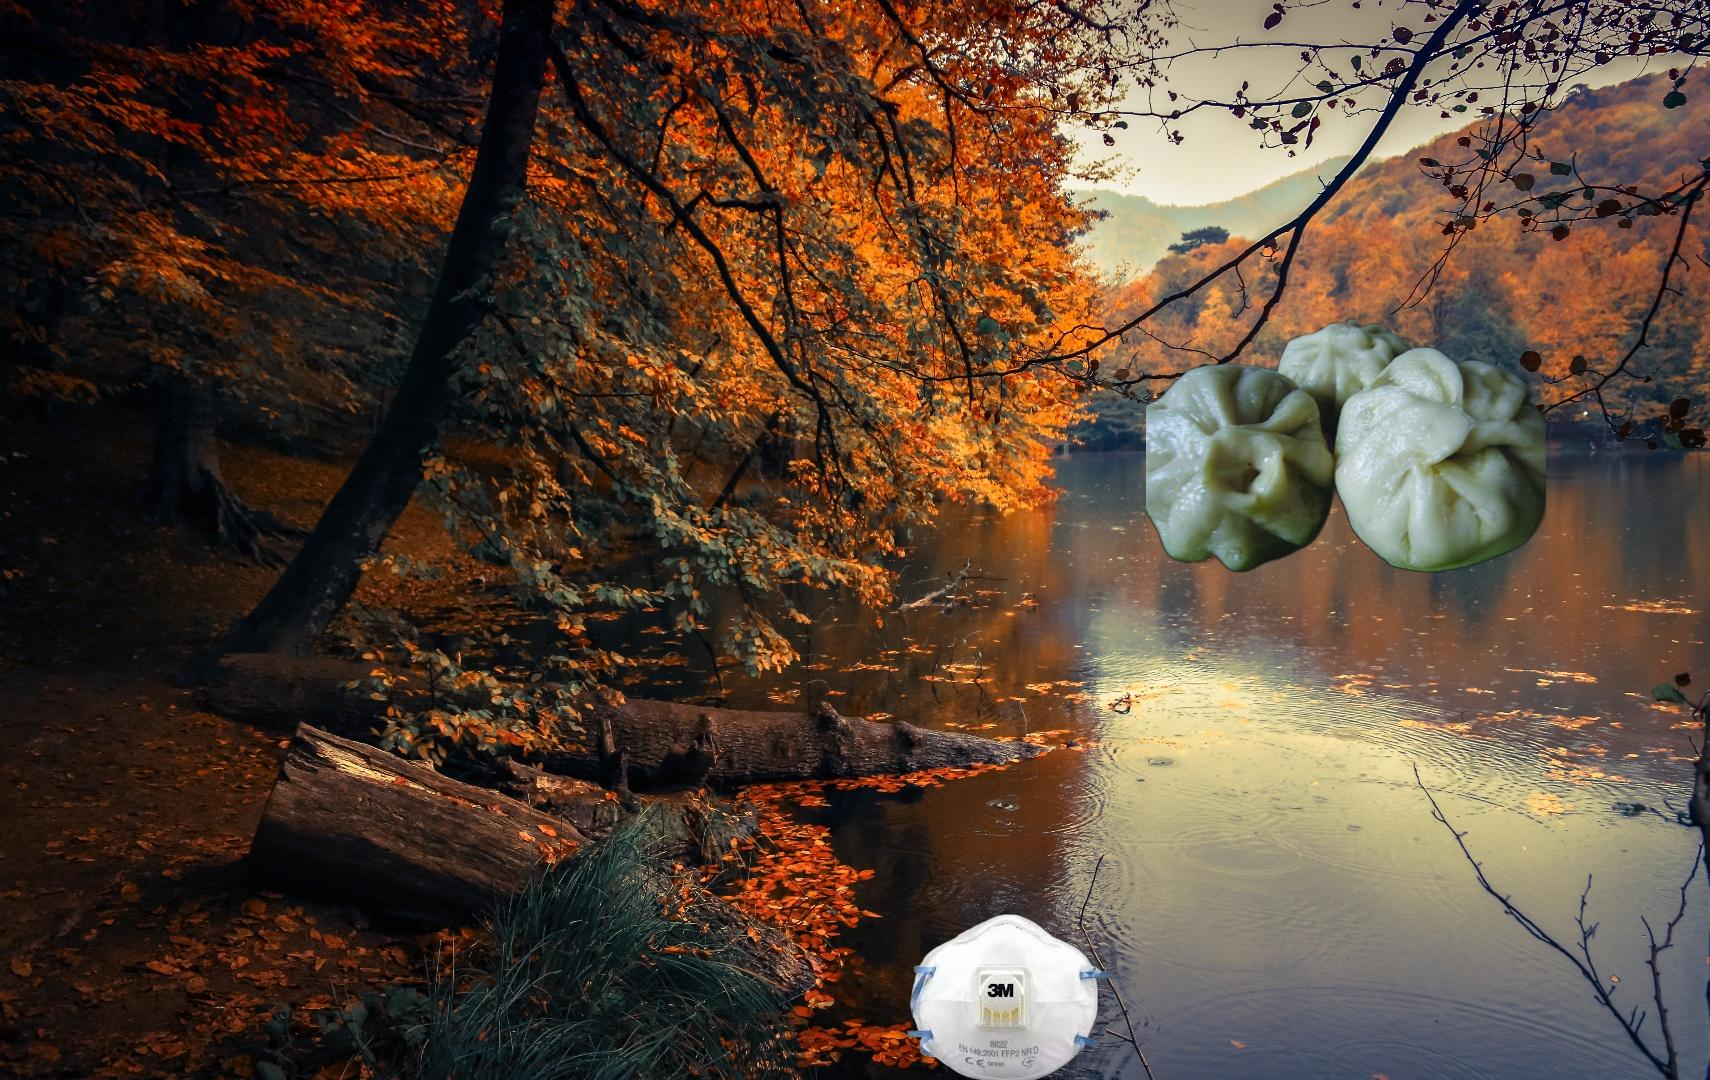biological: (1145, 316, 1546, 575)
trash: (903, 911, 1118, 1080)
